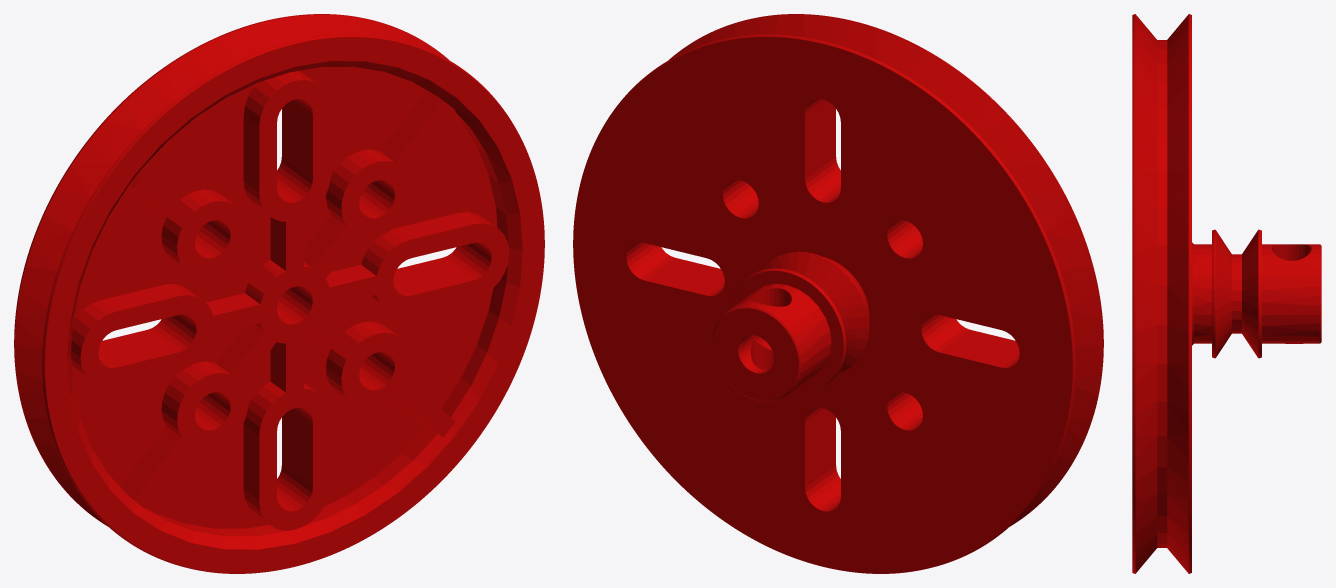
Rendered from RongRocDon2.glb.
The picture shows the model from 3 angles, left to right: view 1: azimuth 30°, elevation 25°; view 2: azimuth 150°, elevation 25°; view 3: azimuth 270°, elevation 25°; orthographic projection. The views are drawn at different scales.
Visible parts, largest first — view 1: defaultobject; view 2: defaultobject; view 3: defaultobject.
Boxes of the visible parts, x1,y1,x2,y2 form: defaultobject: (14,14,544,573); defaultobject: (573,14,1103,573); defaultobject: (1132,14,1321,573).
Bounding box in the file's own units: 175 × 175 × 59.14.
